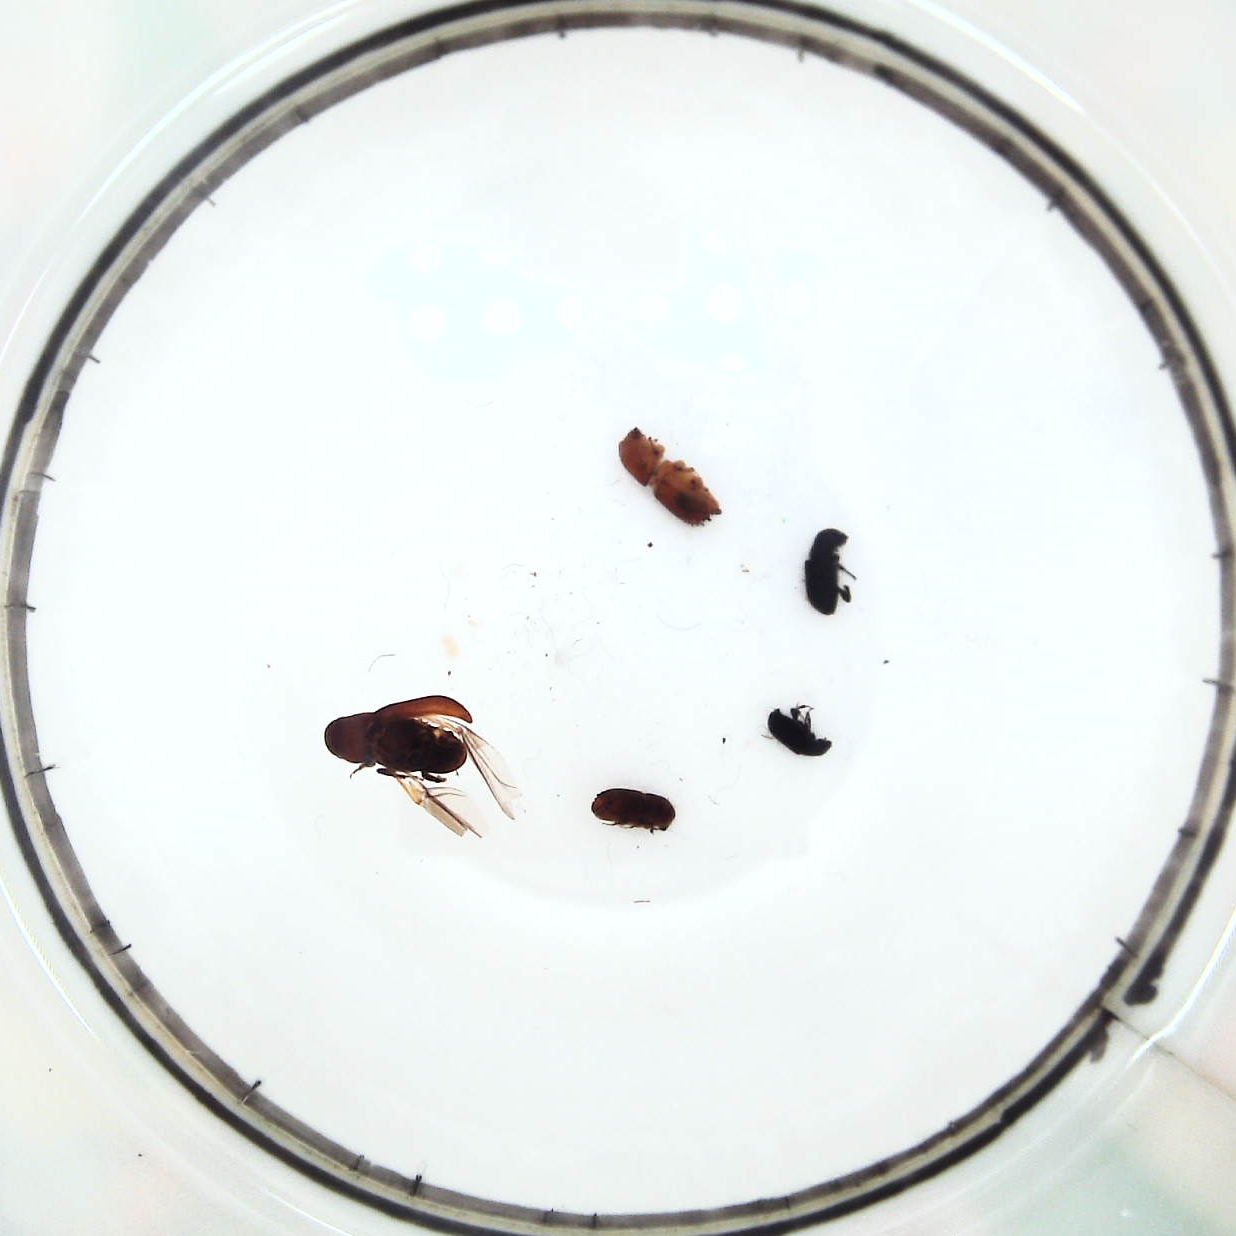Boerner: (618, 424, 726, 522)
Leconte: (327, 690, 527, 833)
Linnaeus: (589, 784, 676, 833)
armandi: (800, 527, 860, 624)
coleoptera: (769, 699, 833, 758)
